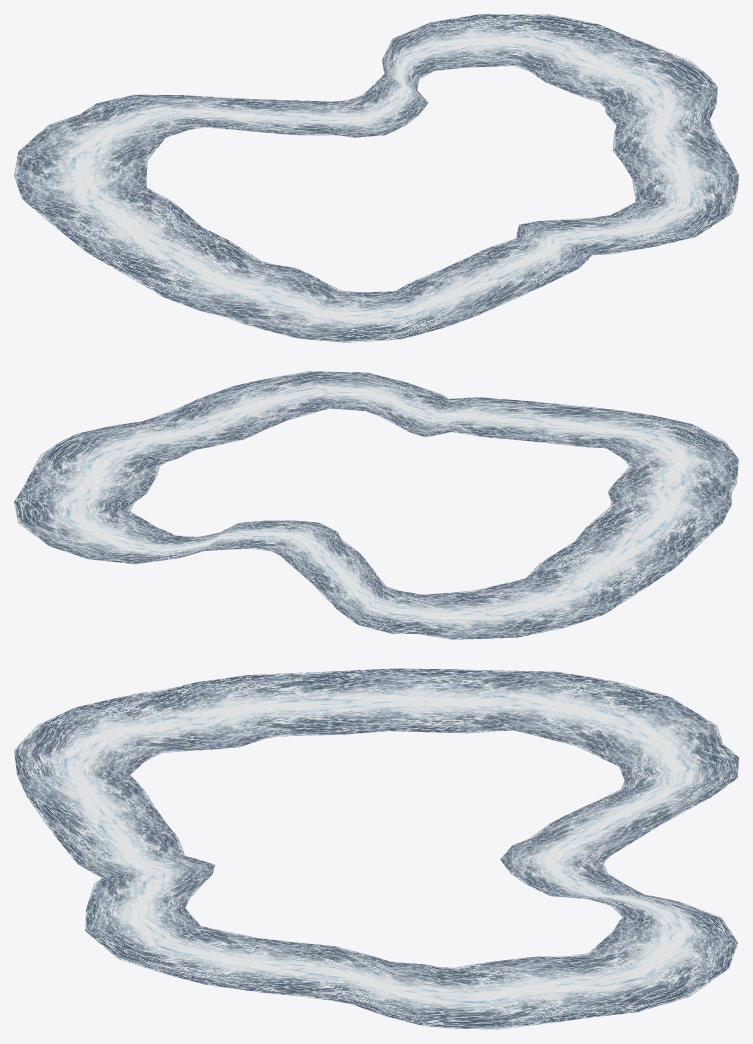
File: island_03_coast.fbx
The picture shows the model from 3 angles, top to bottom: view 1: azimuth 30°, elevation 25°; view 2: azimuth 150°, elevation 25°; view 3: azimuth 270°, elevation 25°; orthographic projection. The views are drawn at different scales.
Visible parts, largest first — view 1: island3coast1; view 2: island3coast1; view 3: island3coast1.
Boxes of the visible parts, bbox=[...] form: island3coast1: bbox=[14, 14, 738, 342]; island3coast1: bbox=[14, 371, 738, 639]; island3coast1: bbox=[14, 668, 738, 1029].
Size of the model in its own units: 9.58 by 0 by 8.13.
